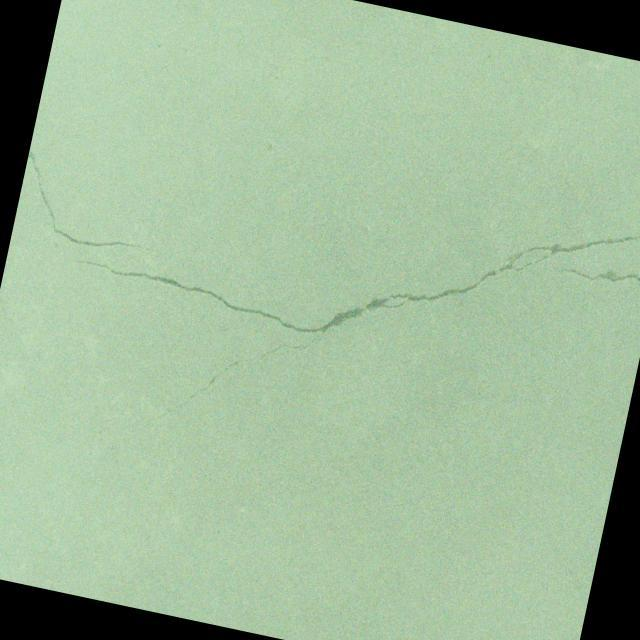crack: (35, 115, 640, 530), (12, 148, 179, 263), (75, 405, 150, 501), (551, 256, 640, 294)
